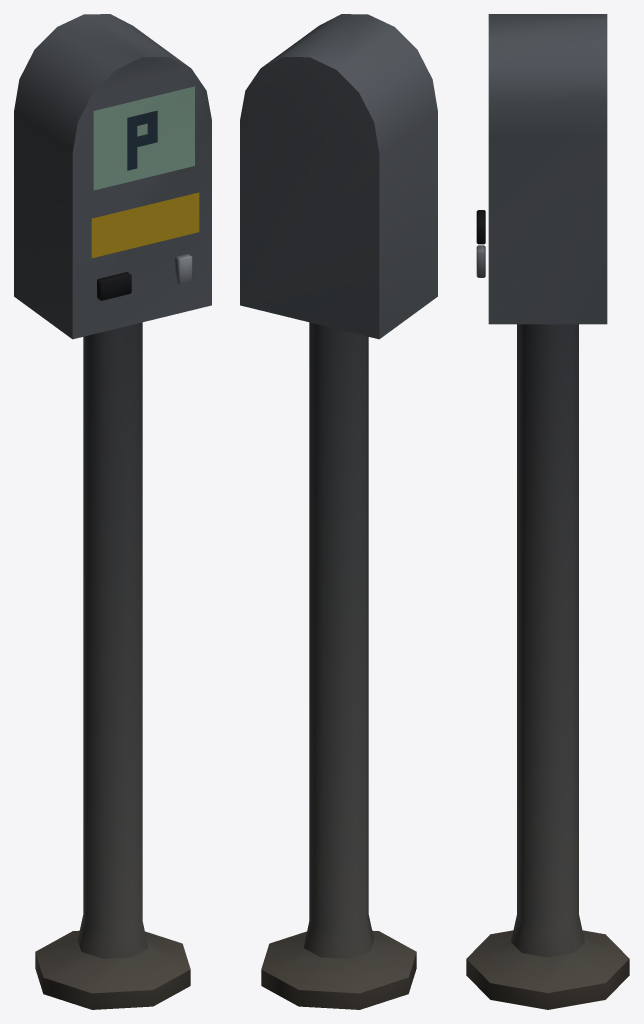
The model's file is parking_meter.glb.
3 renders of one model, left to right at view 1: azimuth 30°, elevation 25°; view 2: azimuth 150°, elevation 25°; view 3: azimuth 270°, elevation 25°, orthographic.
Visible parts, largest first — view 1: ParkingMeter; view 2: ParkingMeter; view 3: ParkingMeter.
Part boxes in pixels (x1,y1,x2,y2): ParkingMeter: [14, 14, 211, 1009]; ParkingMeter: [240, 14, 437, 1009]; ParkingMeter: [466, 14, 629, 1009].
Bounding box in the file's own units: 0.22 × 1.42 × 0.22.
